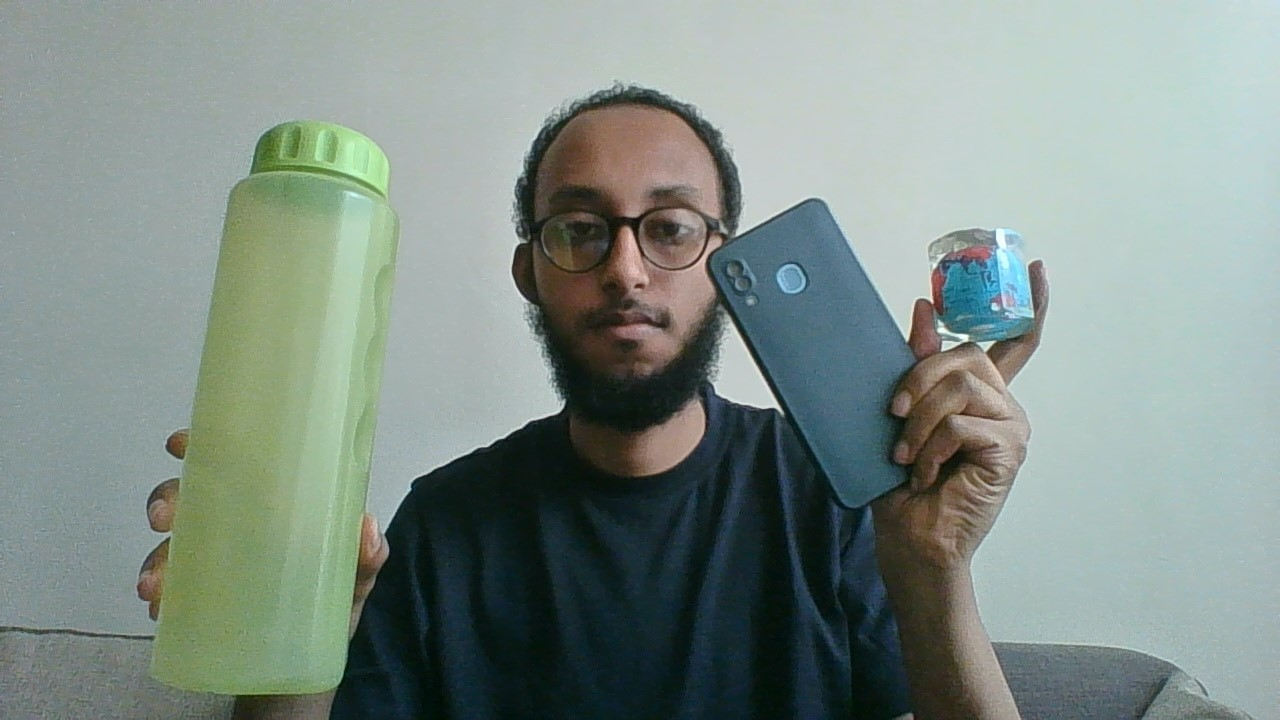Smart_phone: (701, 189, 917, 516)
Water_bottle: (144, 115, 407, 704)
world_globe: (924, 224, 1039, 347)
